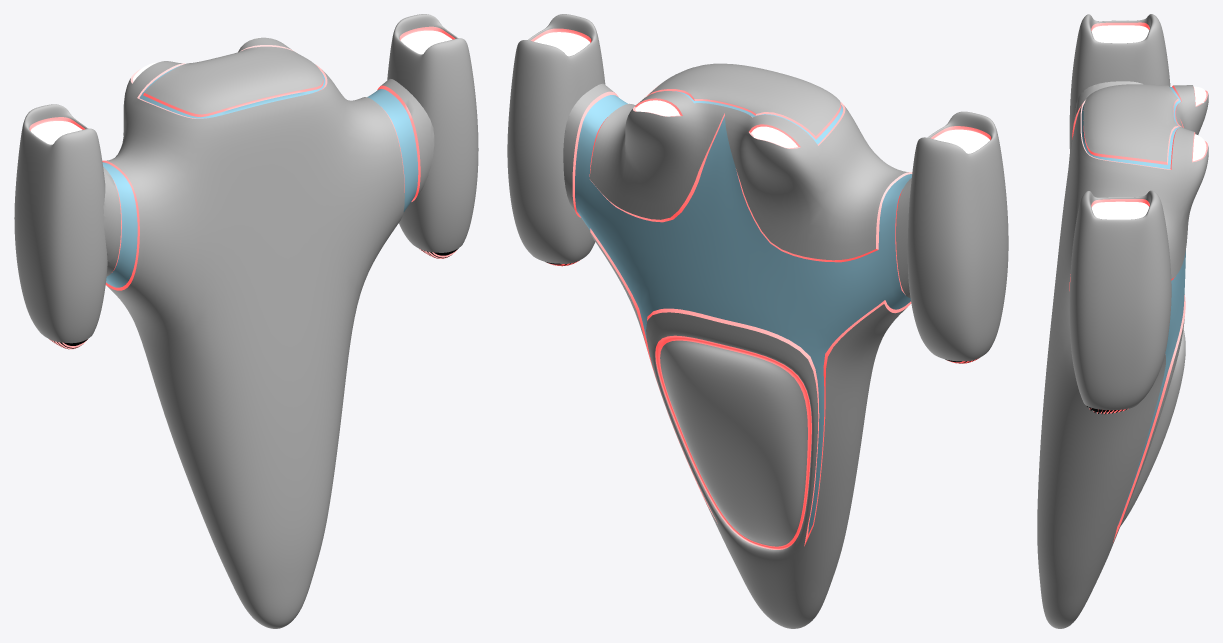
Rendered from EnemyType1.fbx.
3 views of the same model, side by side, from view 1: azimuth 30°, elevation 25°; view 2: azimuth 150°, elevation 25°; view 3: azimuth 270°, elevation 25° (orthographic). The views are drawn at different scales.
Visible parts, largest first — view 1: Куб.001; view 2: Куб.001; view 3: Куб.001.
Boxes of the visible parts, left/top/right/bottom form: Куб.001: left=14, top=14, right=478, bottom=628; Куб.001: left=507, top=14, right=1008, bottom=628; Куб.001: left=1037, top=14, right=1208, bottom=628.
Bounding box in the file's own units: 388 × 450 × 134.
